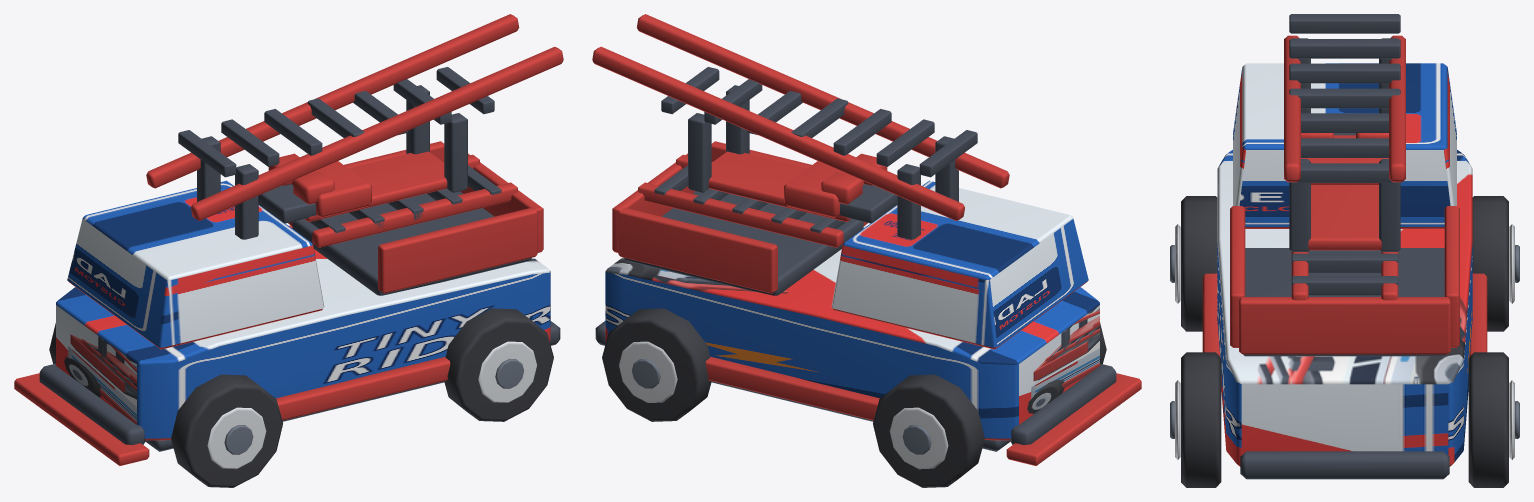
3 renders of one model, left to right at view 1: azimuth 30°, elevation 25°; view 2: azimuth 150°, elevation 25°; view 3: azimuth 270°, elevation 25°, orthographic. The views are drawn at different scales.
Parts seen in each view (by area): view 1: RC-03_connected_shell, RC-03_cabin, cargo side, long elevated ladder rail, Tire, Tire.002, long elevated ladder rail.001, cargo floor, custom side guard, raised ladder extension, folded ladder rail, custom chin (+21 smaller); view 2: RC-03_connected_shell, RC-03_cabin, cargo side.001, long elevated ladder rail.001, Tire.001, Tire.003, long elevated ladder rail, cargo floor, custom side guard.001, raised ladder extension, folded ladder rail.001, custom chin (+21 smaller); view 3: RC-03_connected_shell, RC-03_cabin, cargo tail, rear bumper, cargo floor, Tire.002, Tire.003, raised ladder extension, Tire, Tire.001, elevated ladder rung.002, elevated ladder rung (+22 smaller).
Part boxes in pixels (x1=…): RC-03_connected_shell: x1=56, y1=225, x2=550, y2=440; RC-03_cabin: x1=67, y1=180, x2=324, y2=349; cargo side: x1=378, y1=207, x2=537, y2=293; long elevated ladder rail: x1=191, y1=46, x2=563, y2=220; Tire: x1=171, y1=374, x2=282, y2=487; Tire.002: x1=444, y1=308, x2=553, y2=421; long elevated ladder rail.001: x1=146, y1=14, x2=519, y2=188; cargo floor: x1=292, y1=191, x2=531, y2=295; custom side guard: x1=276, y1=356, x2=450, y2=420; raised ladder extension: x1=305, y1=151, x2=447, y2=221; folded ladder rail: x1=312, y1=182, x2=517, y2=247; custom chin: x1=14, y1=373, x2=149, y2=465; RC-03_connected_shell: x1=605, y1=225, x2=1099, y2=440; RC-03_cabin: x1=831, y1=180, x2=1088, y2=349; cargo side.001: x1=618, y1=207, x2=777, y2=293; long elevated ladder rail.001: x1=592, y1=46, x2=964, y2=220; Tire.001: x1=873, y1=374, x2=984, y2=487; Tire.003: x1=602, y1=308, x2=711, y2=421; long elevated ladder rail: x1=636, y1=14, x2=1009, y2=188; cargo floor: x1=624, y1=191, x2=863, y2=295; custom side guard.001: x1=705, y1=356, x2=879, y2=420; raised ladder extension: x1=708, y1=151, x2=850, y2=221; folded ladder rail.001: x1=638, y1=182, x2=843, y2=247; custom chin: x1=1006, y1=373, x2=1141, y2=465; RC-03_connected_shell: x1=1217, y1=150, x2=1472, y2=466; RC-03_cabin: x1=1233, y1=63, x2=1456, y2=228; cargo tail: x1=1239, y1=297, x2=1450, y2=354; rear bumper: x1=1240, y1=451, x2=1449, y2=479; cargo floor: x1=1243, y1=248, x2=1446, y2=356; Tire.002: x1=1181, y1=352, x2=1221, y2=487; Tire.003: x1=1468, y1=352, x2=1508, y2=487; raised ladder extension: x1=1308, y1=185, x2=1381, y2=250; Tire: x1=1181, y1=196, x2=1217, y2=331; Tire.001: x1=1472, y1=196, x2=1508, y2=331; elevated ladder rung.002: x1=1289, y1=63, x2=1400, y2=83; elevated ladder rung: x1=1289, y1=14, x2=1400, y2=33.
Size of the model in its own units: 418 by 267 by 226.
